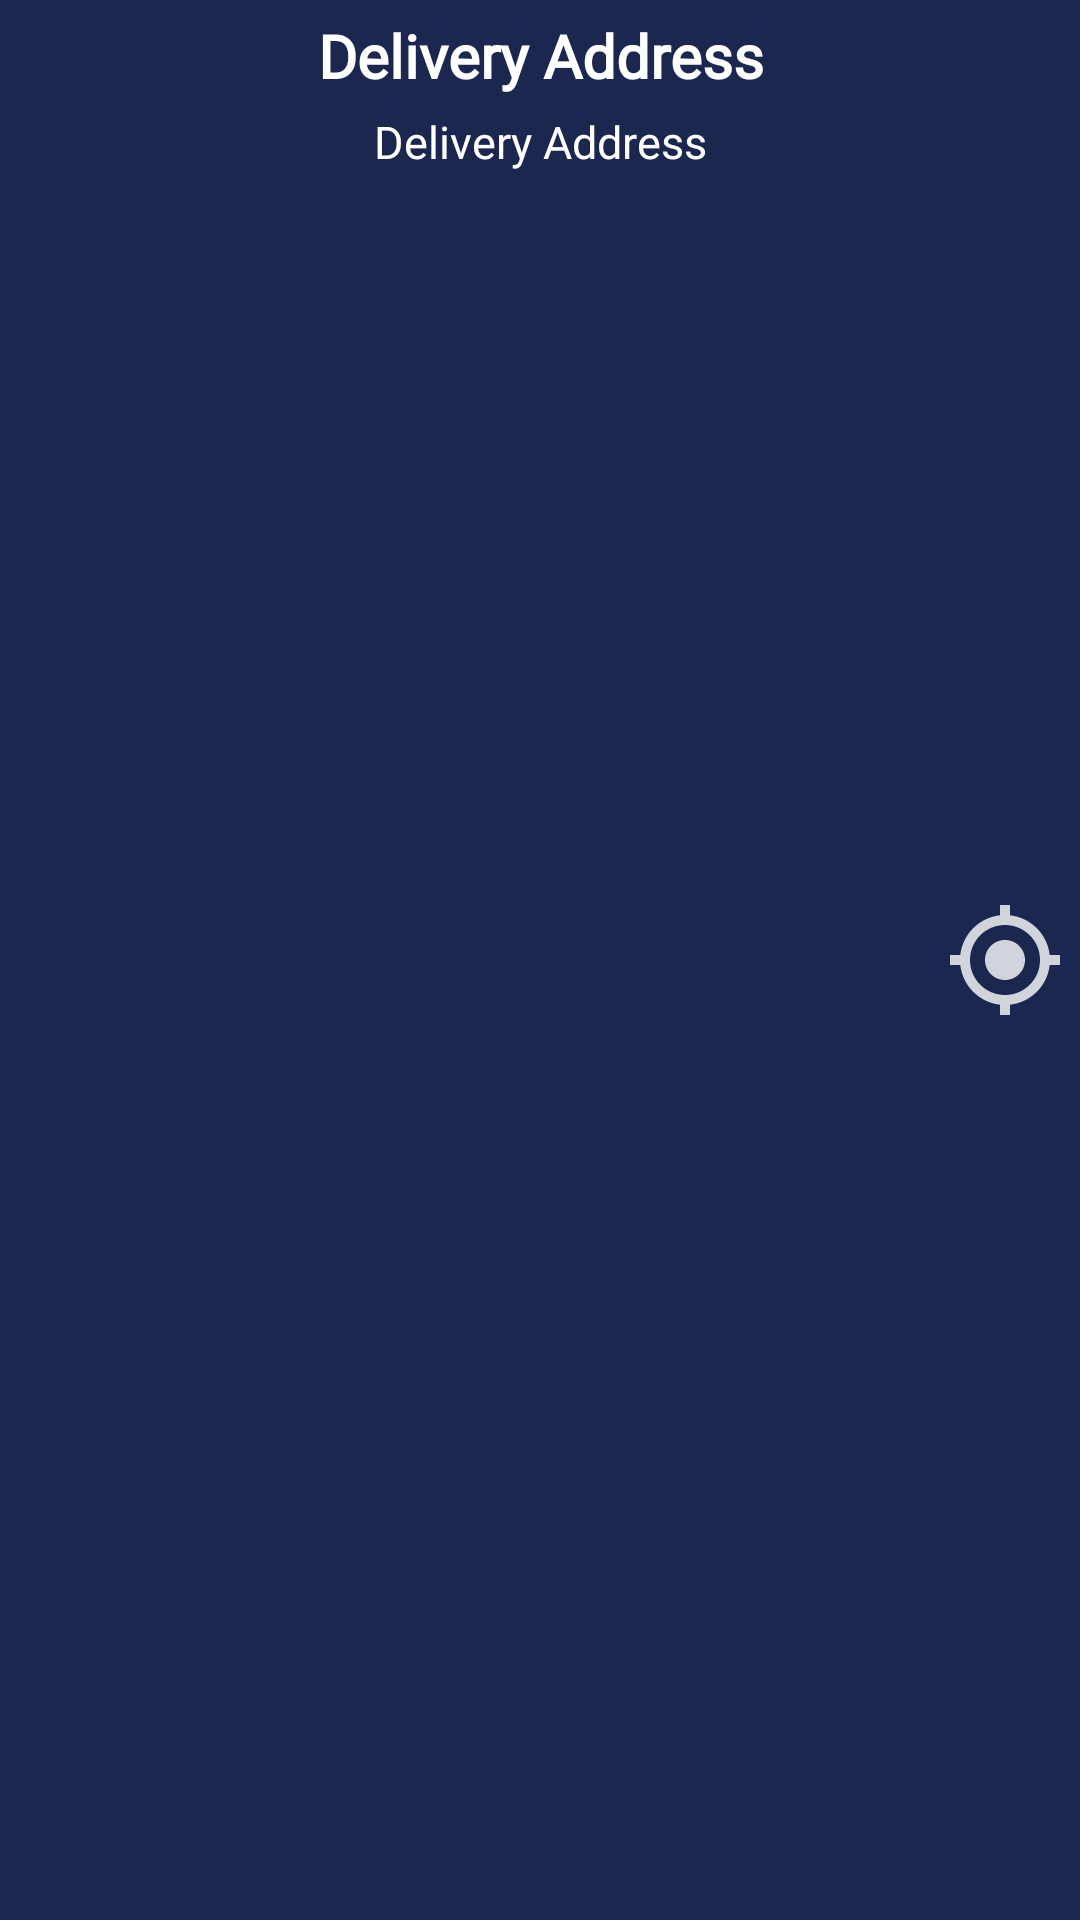

Icons on this 1080px x 1920px Android screen, each with the point to tap as (x=x, y=y):
mylocation: (x=1005, y=960)
